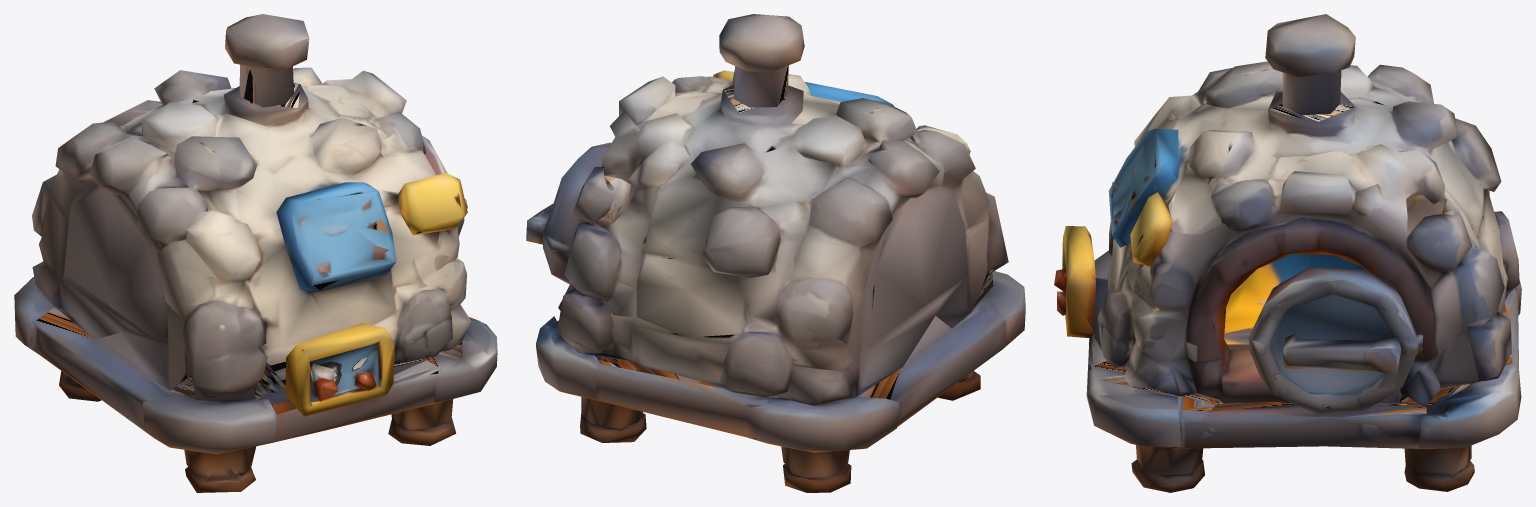
File: tas_firin_lod1.glb
3 renders of one model, left to right at view 1: azimuth 30°, elevation 25°; view 2: azimuth 150°, elevation 25°; view 3: azimuth 270°, elevation 25°, orthographic. The views are drawn at different scales.
Parts seen in each view (by area): view 1: tas_firin_lod1; view 2: tas_firin_lod1; view 3: tas_firin_lod1.
Boxes of the visible parts, x1,y1,x2,y2 form: tas_firin_lod1: [14, 14, 497, 492]; tas_firin_lod1: [526, 14, 1025, 492]; tas_firin_lod1: [1054, 14, 1521, 492].
Bounding box in the file's own units: 1.47 × 1.4 × 1.47.
6 materials, 6 textured.
